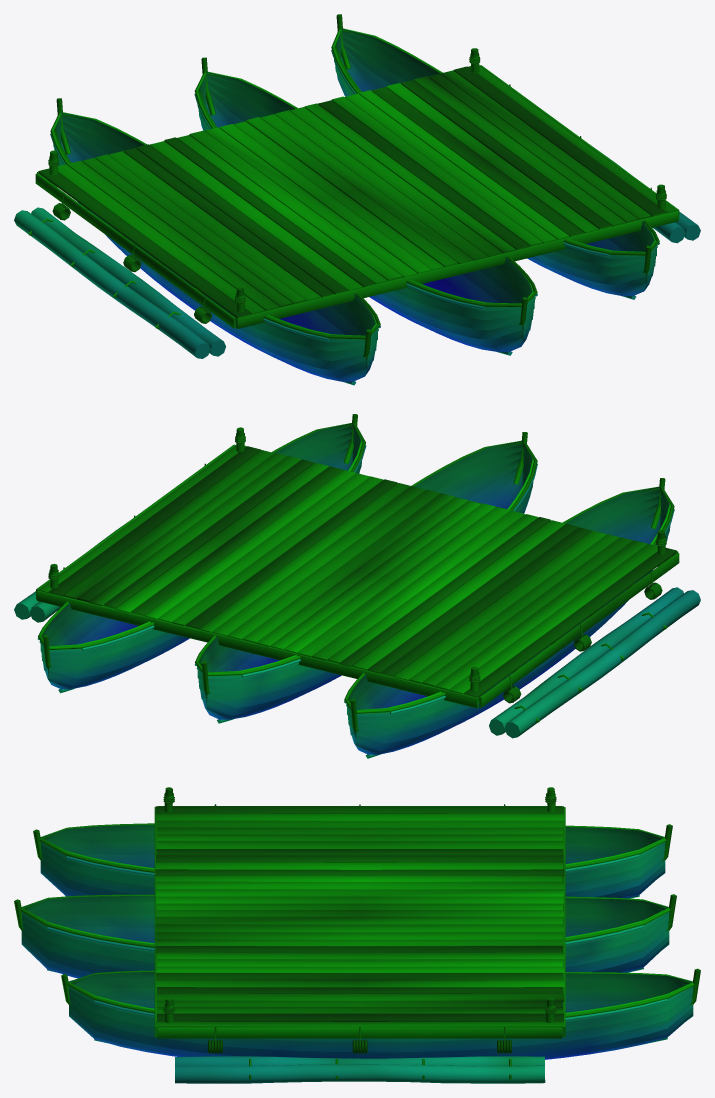
The model's file is raft_deck_rebuilt.glb.
3 views of the same model, one above another, from view 1: azimuth 30°, elevation 25°; view 2: azimuth 150°, elevation 25°; view 3: azimuth 270°, elevation 25° (orthographic). The views are drawn at different scales.
Parts seen in each view (by area): view 1: raft_deck_rebuilt; view 2: raft_deck_rebuilt; view 3: raft_deck_rebuilt.
Boxes of the visible parts, left/top/right/bottom form: raft_deck_rebuilt: left=14, top=14, right=700, bottom=385; raft_deck_rebuilt: left=14, top=414, right=700, bottom=758; raft_deck_rebuilt: left=14, top=787, right=700, bottom=1083.
Size of what is drawn, in the model's own units: 10.45 by 1.91 by 11.88.
